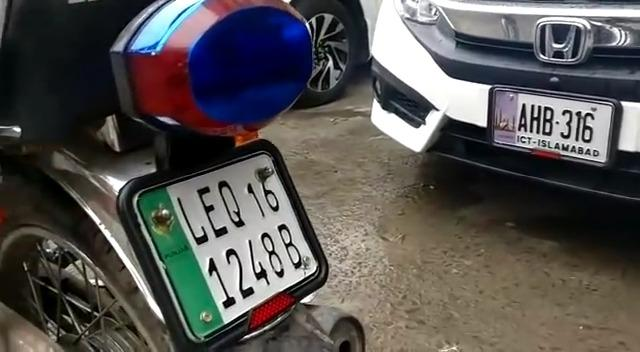plate: (126, 146, 332, 347), (493, 88, 617, 165)
